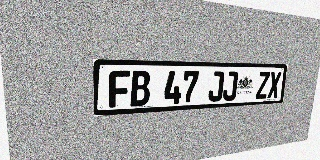4: (164, 71, 182, 104)
7: (181, 71, 199, 103)
B: (130, 71, 150, 106)
F: (109, 70, 130, 108)
J: (208, 71, 224, 102), (222, 71, 238, 101)
X: (267, 72, 281, 98)
Z: (256, 72, 270, 99)
